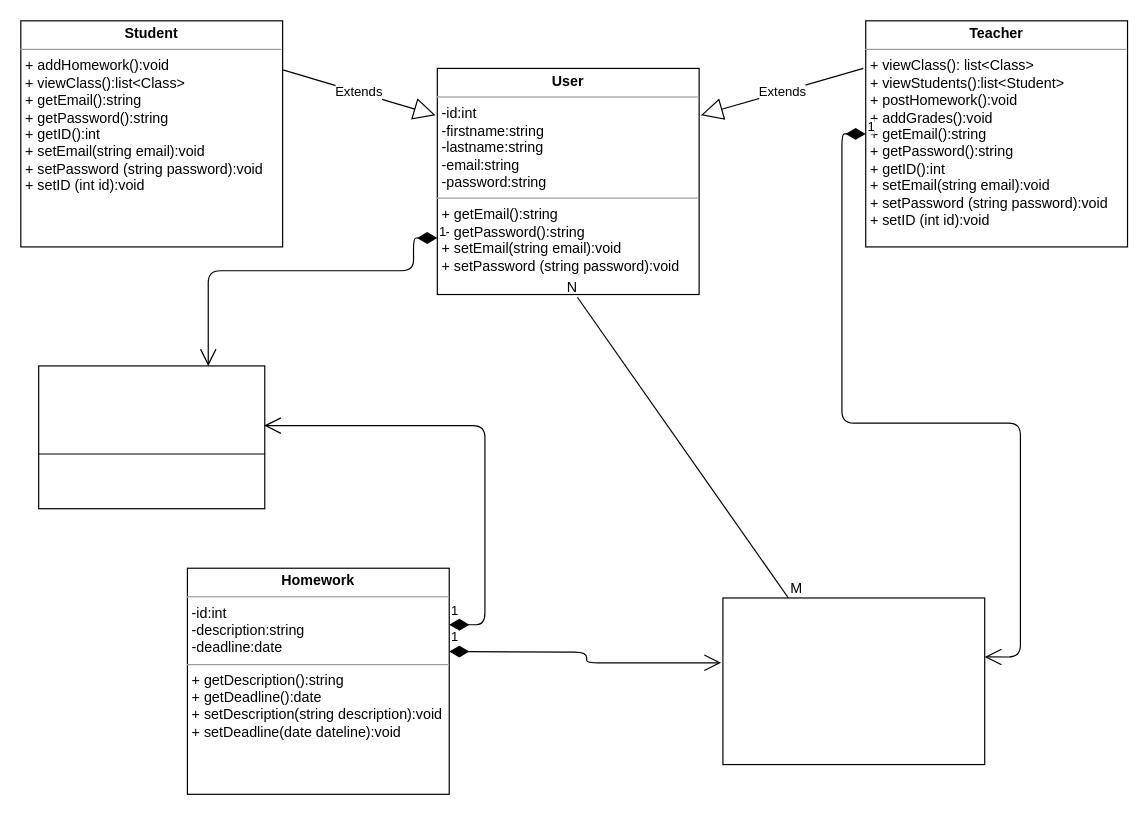
This 1148x815 diagram has some shape labels left out. The centre of each missing label's shape, as x and y in pixels:
"Class -id:int -name:string + getName():string + setName(string name):void" goes at point (151, 437).
"Grades -id:int -grade:double + getGrade():double + setGrade(double grade):void" goes at point (853, 681).
